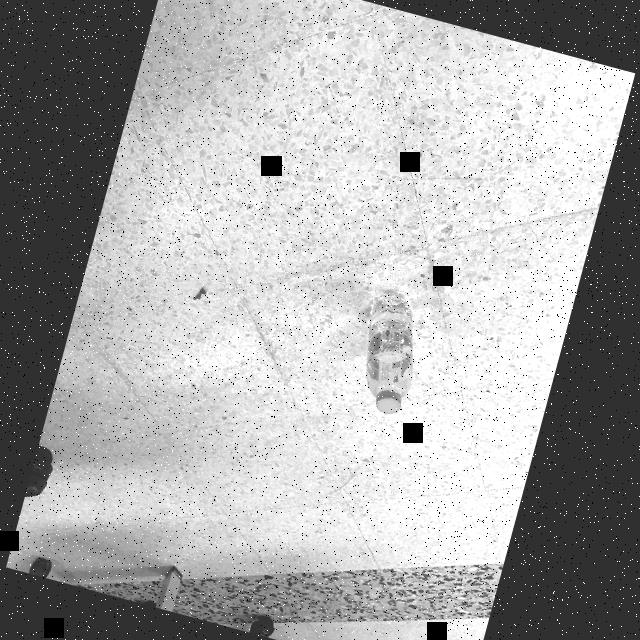plastic_bottle: (345, 283, 434, 417)
plastic_bottle_cap: (373, 388, 403, 416)
